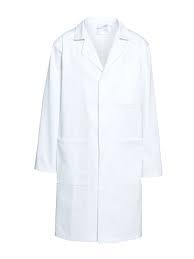lab_coat: (33, 20, 162, 241)
